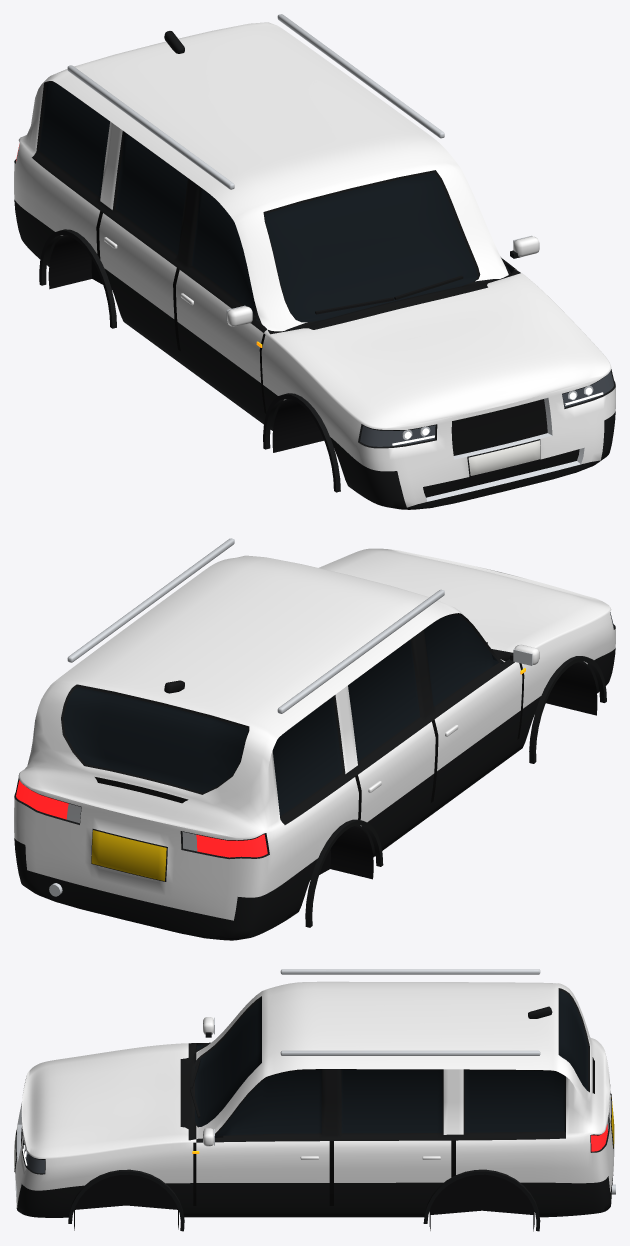
The model's file is suv.glb.
3 renders of one model, top to bottom at view 1: azimuth 30°, elevation 25°; view 2: azimuth 150°, elevation 25°; view 3: azimuth 270°, elevation 25°, orthographic. The views are drawn at different scales.
Visible parts, largest first — view 1: suv; view 2: suv; view 3: suv.
Boxes of the visible parts, left/top/right/bottom form: suv: left=14, top=14, right=615, bottom=509; suv: left=14, top=538, right=615, bottom=940; suv: left=14, top=969, right=615, bottom=1231.
Bounding box in the file's own units: 2.33 × 1.58 × 4.94.
